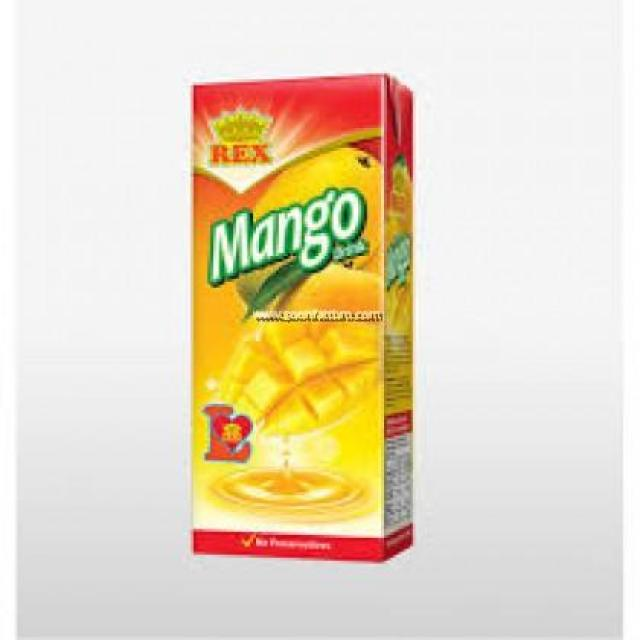drink carton: (189, 69, 411, 556)
